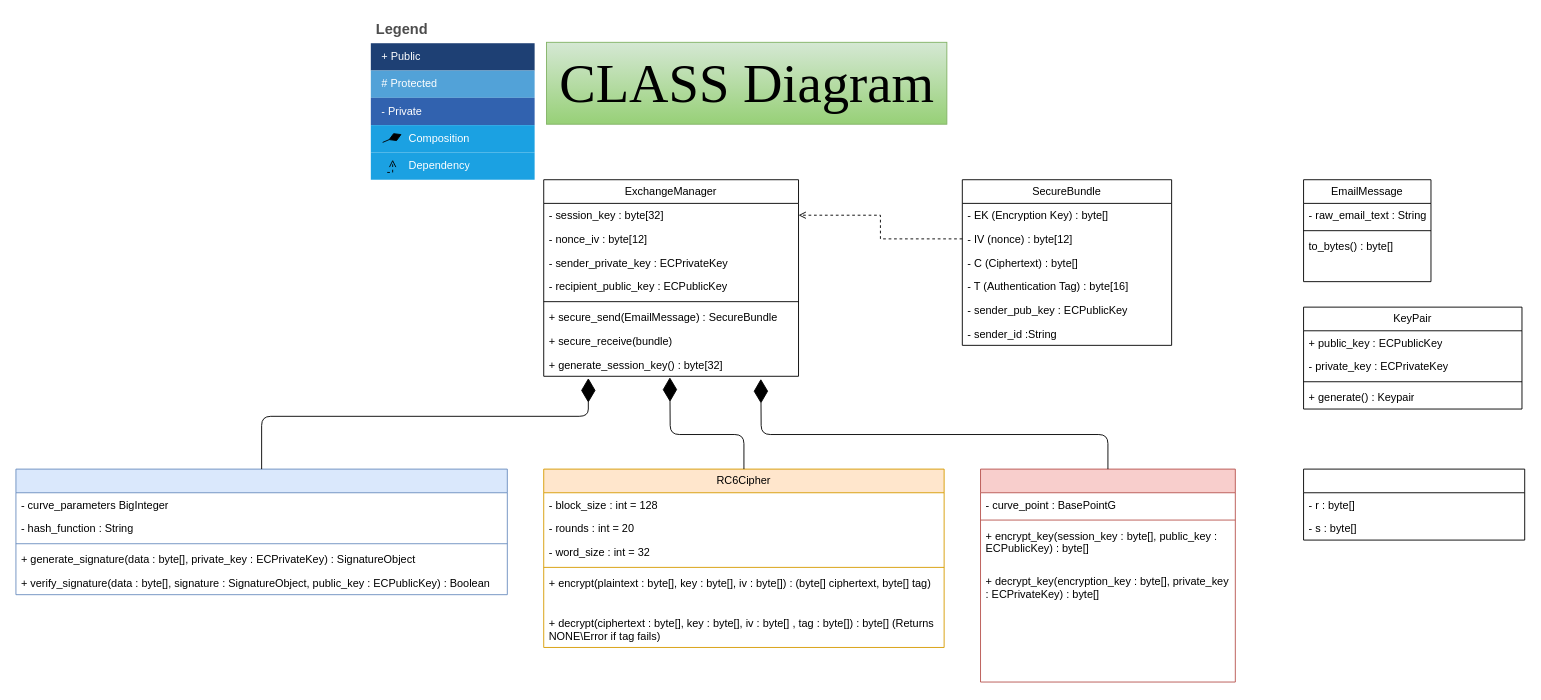
Some shapes in this 1541 by 700 pixel diagram are drawn without their labels. Each missing label, with the box of its shape:
ElGamal: (980, 468, 1235, 682)
SchnorrSigner: (15, 468, 507, 595)
SignatureObject: (1303, 468, 1525, 540)
